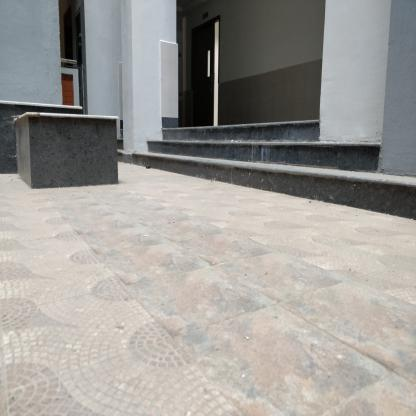stairs: (168, 129, 319, 189)
